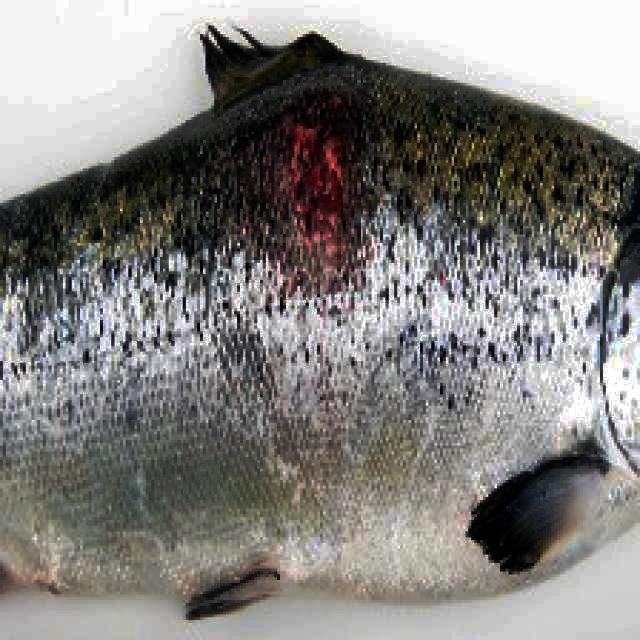Aeromonas Septicemia: (0, 27, 639, 617), (0, 30, 640, 611)
